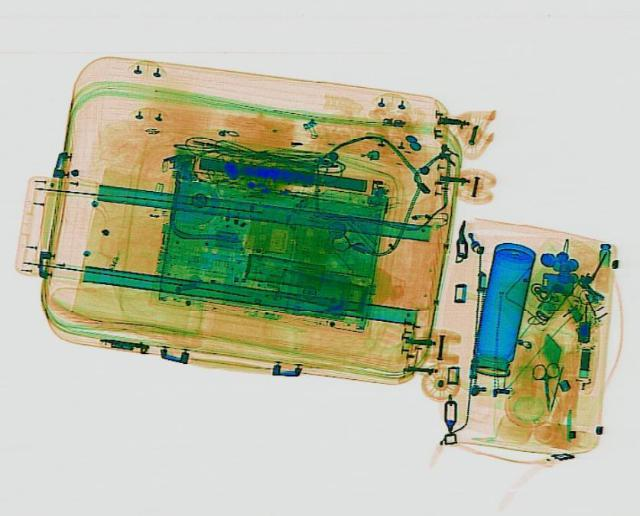Scissors: (530, 360, 560, 409)
